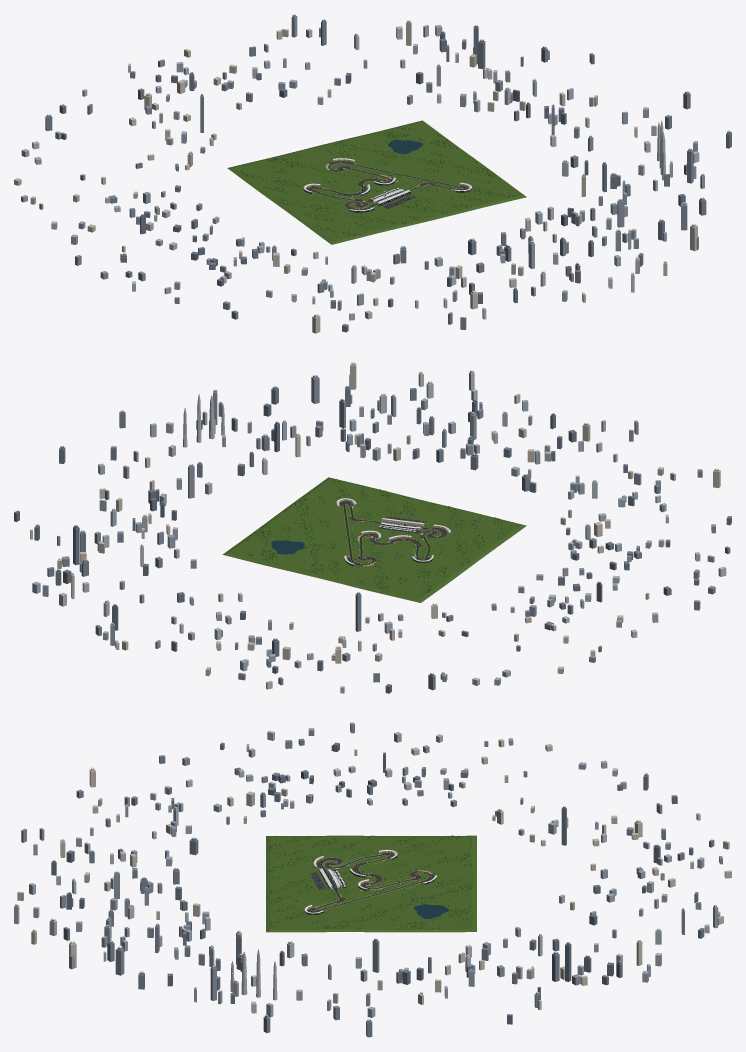
File: shanghai-apex.glb
3 views of the same model, one above another, from view 1: azimuth 30°, elevation 25°; view 2: azimuth 150°, elevation 25°; view 3: azimuth 270°, elevation 25° (orthographic).
Parts seen in each view (by area): view 1: skyline, terrain_03, terrain_02, terrain_00, terrain_23, terrain_32, terrain_13, terrain_33, terrain_01, terrain_20, terrain_31, terrain_10 (+5 smaller); view 2: skyline, terrain_00, terrain_02, terrain_20, terrain_10, terrain_03, terrain_32, terrain_01, terrain_23, terrain_31, terrain_21, terrain_33 (+5 smaller); view 3: skyline, terrain_32, terrain_31, terrain_00, terrain_20, terrain_33, terrain_23, terrain_02, terrain_10, terrain_03, terrain_13, terrain_21 (+5 smaller).
Boxes of the visible parts, box(x1,y1,x2,y2) form: skyline: box(14, 14, 731, 333); terrain_03: box(306, 212, 380, 244); terrain_02: box(279, 193, 354, 225); terrain_00: box(227, 156, 302, 187); terrain_23: box(406, 189, 478, 220); terrain_32: box(427, 158, 500, 188); terrain_13: box(356, 202, 429, 232); terrain_33: box(456, 178, 526, 208); terrain_01: box(254, 174, 327, 206); terrain_20: box(325, 132, 393, 161); terrain_31: box(405, 140, 474, 169); terrain_10: box(277, 144, 348, 174); skyline: box(14, 362, 731, 693); terrain_00: box(370, 570, 447, 602); terrain_02: box(425, 531, 500, 564); terrain_20: box(272, 547, 347, 578); terrain_10: box(321, 559, 396, 590); terrain_03: box(451, 513, 526, 544); terrain_32: box(276, 496, 349, 526); terrain_01: box(397, 551, 473, 583); terrain_23: box(353, 489, 426, 518); terrain_31: box(249, 516, 324, 542); terrain_21: box(303, 527, 370, 557); terrain_33: box(302, 477, 377, 506); skyline: box(14, 722, 731, 1037); terrain_32: box(318, 907, 371, 932); terrain_31: box(371, 907, 423, 932); terrain_00: box(423, 835, 476, 860); terrain_20: box(423, 883, 476, 908); terrain_33: box(266, 907, 317, 932); terrain_23: box(266, 883, 317, 907); terrain_02: box(318, 835, 371, 859); terrain_10: box(423, 859, 476, 883); terrain_03: box(266, 836, 317, 859); terrain_13: box(266, 859, 317, 884); terrain_21: box(371, 883, 423, 907).
Size of what is drawn, in the model's own units: 6527 by 473 by 6458.
49 materials, 18 textured.
